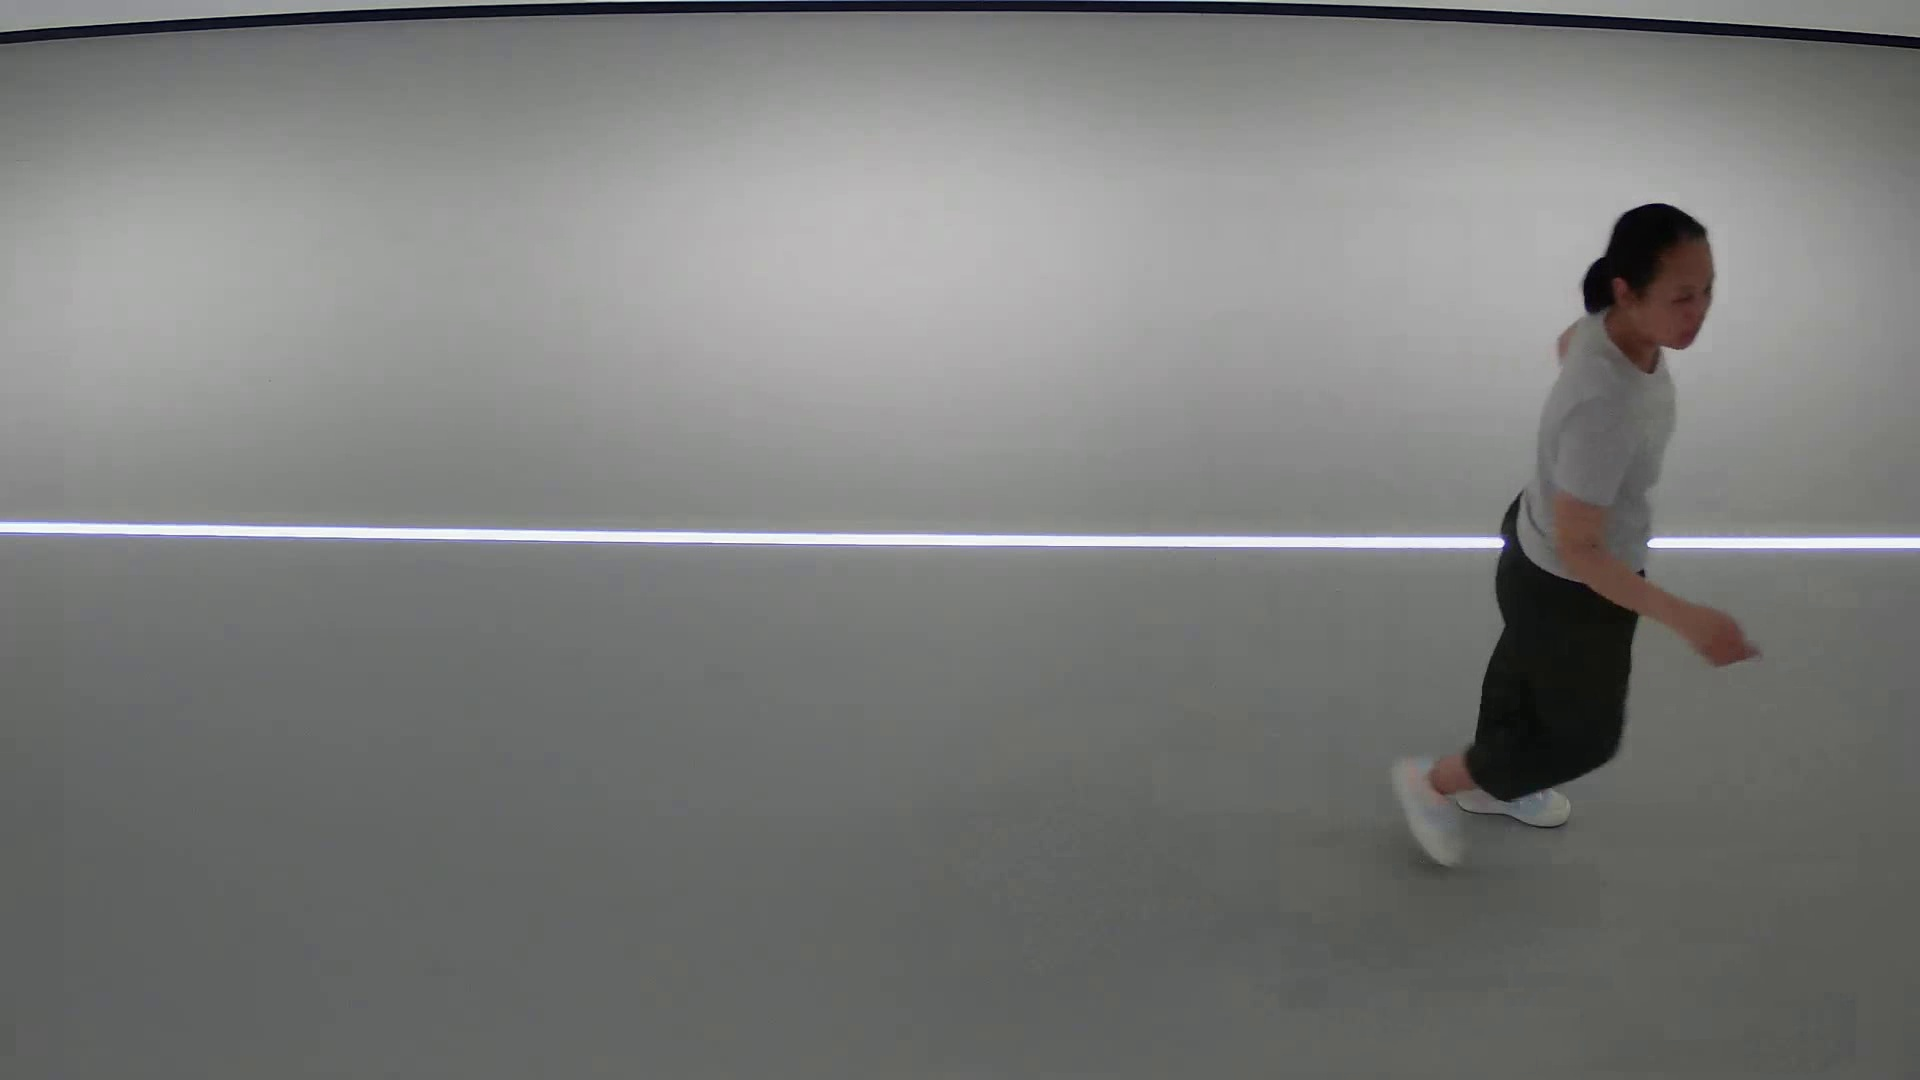normal: (1375, 193, 1762, 886)
